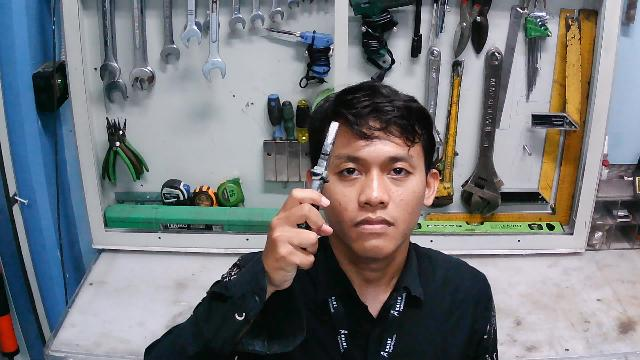tang_kombinasi: (293, 116, 342, 250)
